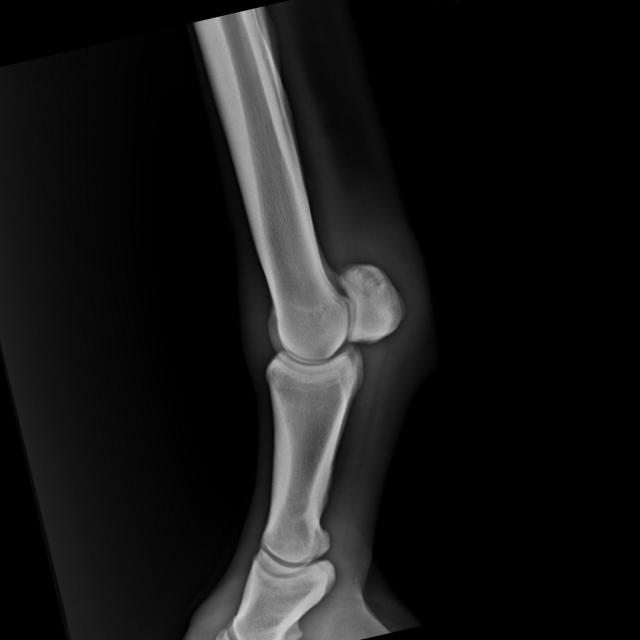joint-ht8A: (196, 207, 456, 455)
